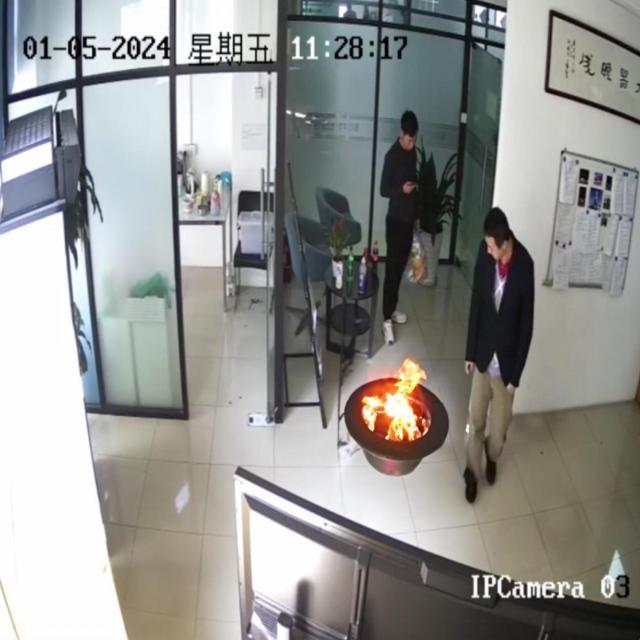smoke: (364, 352, 426, 449)
